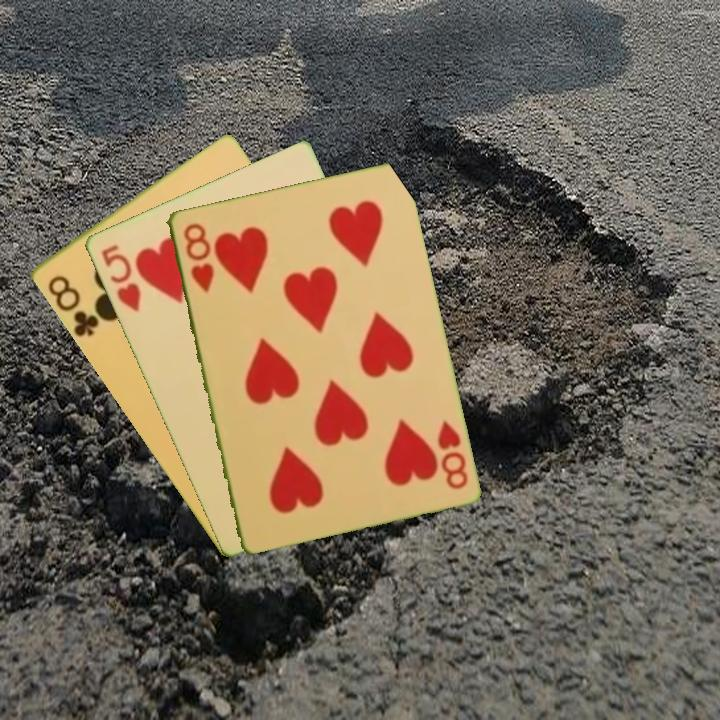5h: (97, 241, 143, 315)
8c: (43, 271, 107, 340)
8h: (179, 219, 217, 295), (433, 417, 470, 492)
